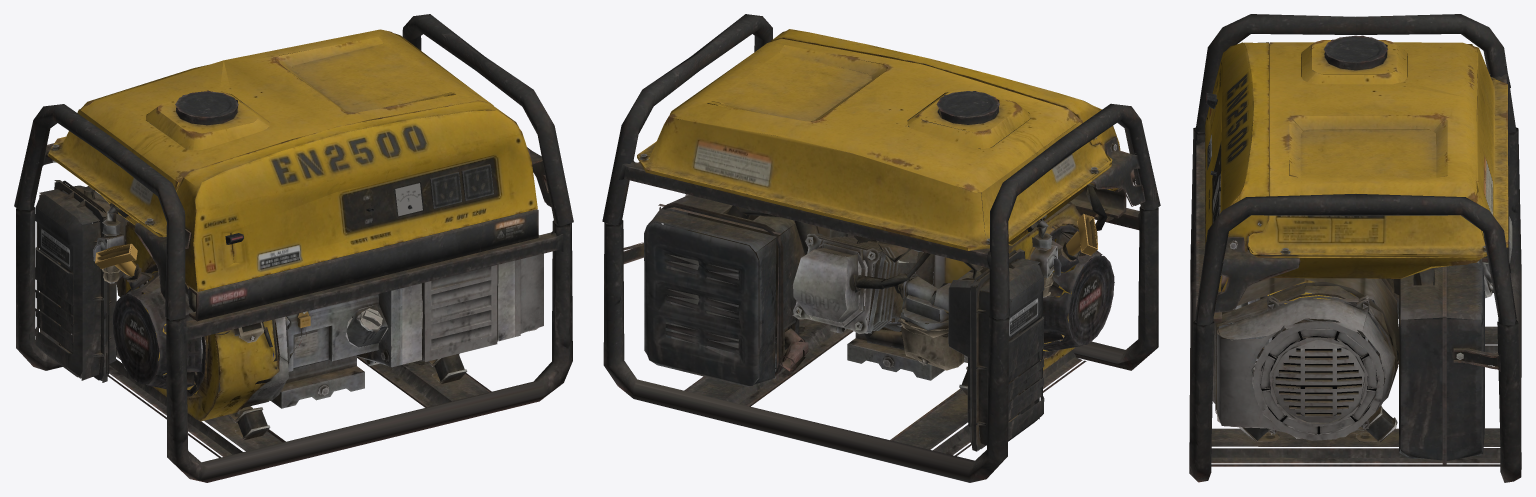
The model's file is generator.glb.
3 renders of one model, left to right at view 1: azimuth 30°, elevation 25°; view 2: azimuth 150°, elevation 25°; view 3: azimuth 270°, elevation 25°, orthographic.
Parts seen in each view (by area): view 1: generator; view 2: generator; view 3: generator.
Boxes of the visible parts, x1=… form: generator: x1=14, y1=14, x2=573, y2=482; generator: x1=602, y1=14, x2=1160, y2=482; generator: x1=1189, y1=14, x2=1521, y2=482.
Bounding box in the file's own units: 0.8193 × 0.5768 × 0.5655.
2 materials, 2 textured.
